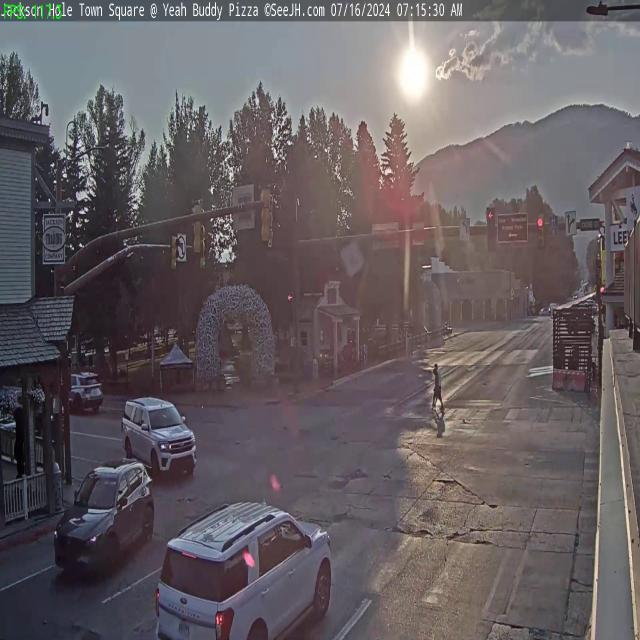person: (432, 361, 444, 416)
suv: (152, 494, 337, 640), (52, 461, 156, 578), (124, 394, 198, 484), (66, 370, 102, 415)
traffic light: (261, 184, 273, 244), (190, 200, 203, 255), (486, 208, 496, 252), (172, 231, 179, 282), (536, 216, 544, 250)
